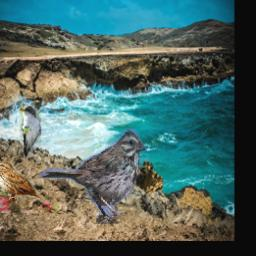Cuckoo: (20, 105, 41, 159)
Sparrow: (39, 127, 147, 225), (0, 159, 60, 213)
